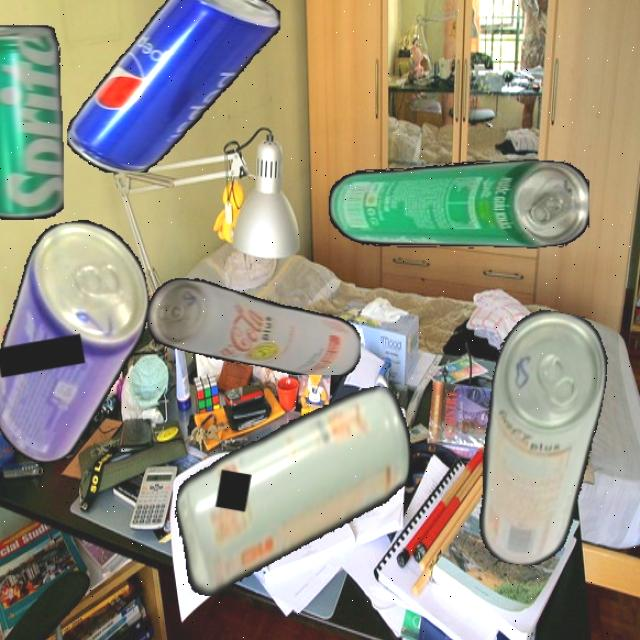debris: (162, 356, 422, 626), (0, 211, 174, 470), (462, 304, 616, 574), (67, 0, 280, 173), (328, 160, 589, 248), (147, 277, 361, 375), (0, 25, 64, 220)
